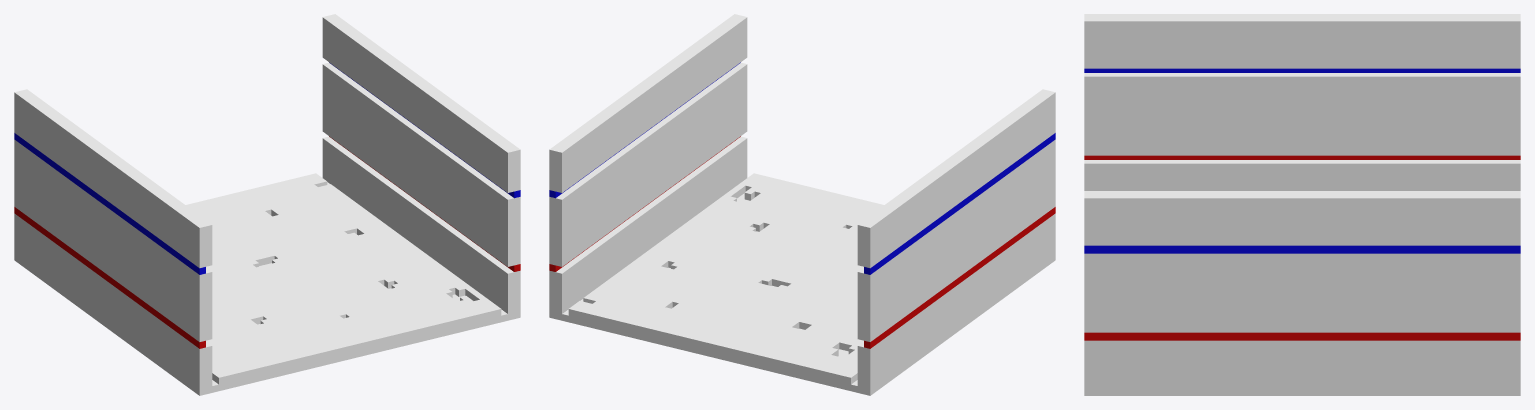
File: corridorStraight03_NoRoof.fbx
The picture shows the model from 3 angles, left to right: view 1: azimuth 30°, elevation 25°; view 2: azimuth 150°, elevation 25°; view 3: azimuth 270°, elevation 25°; orthographic projection. The views are drawn at different scales.
Parts seen in each view (by area): view 1: floor1.001, wall_left1.002, wall_left1.001; view 2: floor1.001, wall_left1.002, wall_left1.001; view 3: wall_left1.001, wall_left1.002.
Boxes of the visible parts, bbox=[...] form: floor1.001: bbox=[186, 173, 507, 392]; wall_left1.002: bbox=[14, 89, 212, 395]; wall_left1.001: bbox=[322, 14, 520, 320]; floor1.001: bbox=[562, 173, 883, 392]; wall_left1.002: bbox=[857, 89, 1055, 395]; wall_left1.001: bbox=[549, 14, 747, 320]; wall_left1.001: bbox=[1084, 191, 1520, 395]; wall_left1.002: bbox=[1084, 14, 1520, 190].
Bounding box in the file's own units: 4 × 2 × 4.
Materials: 3 (3 with a texture image).
